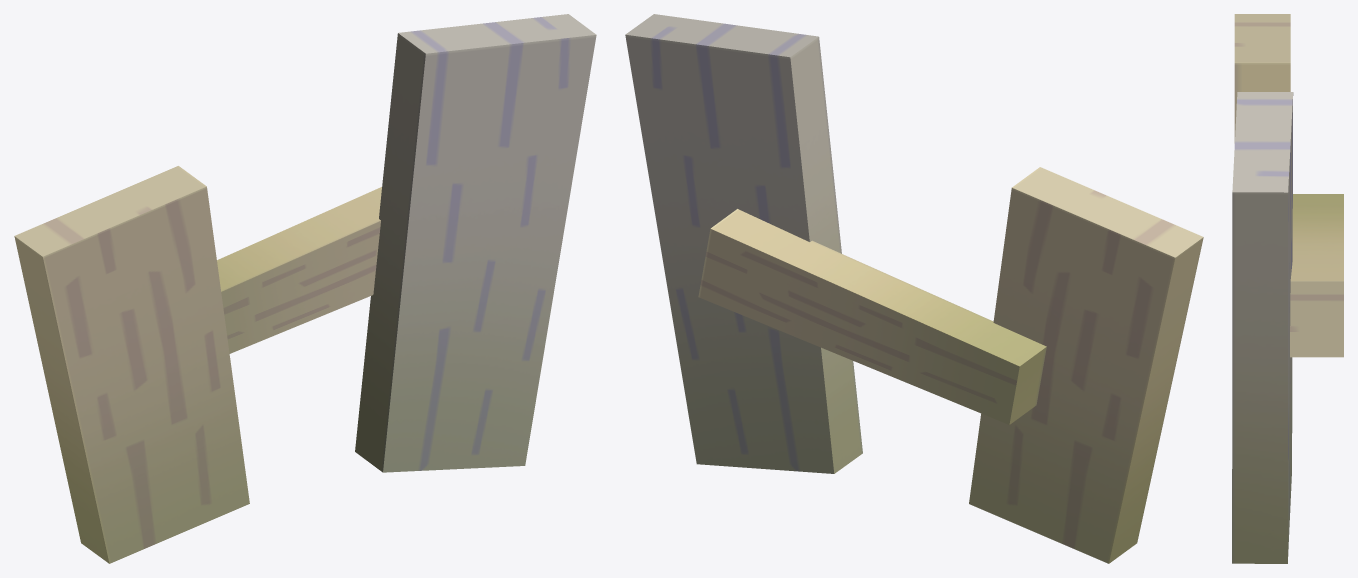
File: BG_016_fence.FBX
3 renders of one model, left to right at view 1: azimuth 30°, elevation 25°; view 2: azimuth 150°, elevation 25°; view 3: azimuth 270°, elevation 25°, orthographic.
Visible parts, largest first — view 1: BG_016_fence; view 2: BG_016_fence; view 3: BG_016_fence.
Part boxes in pixels (x1,y1,x2,y2): BG_016_fence: (14, 14, 596, 563); BG_016_fence: (625, 14, 1203, 563); BG_016_fence: (1232, 14, 1343, 563).
Size of the model in its own units: 192 by 144 by 34.32.
